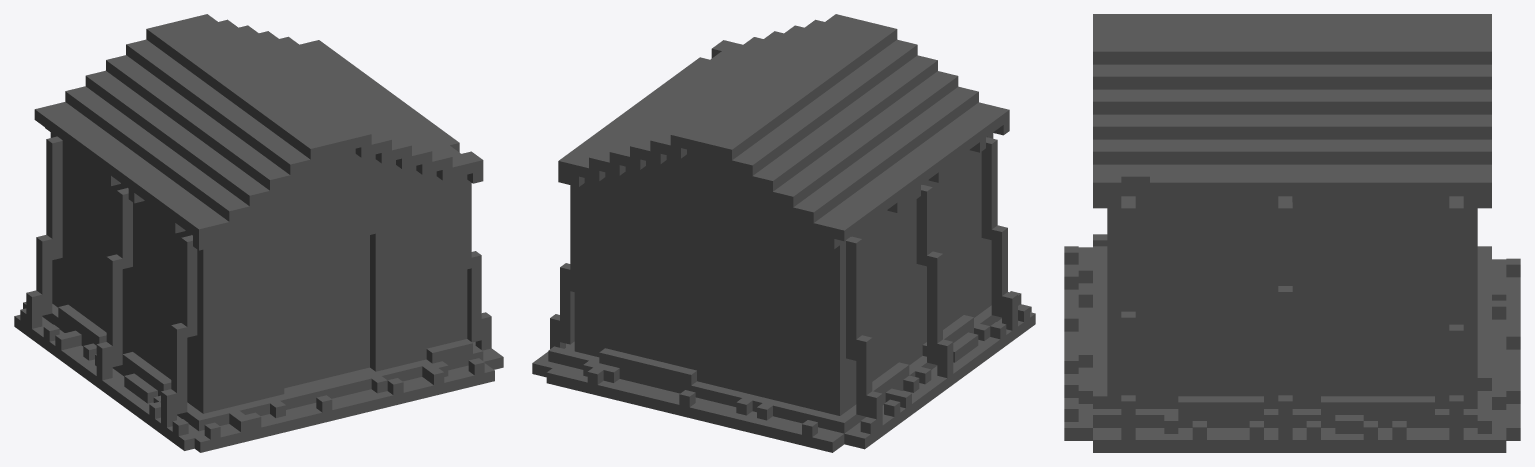
Rendered from bld_house7b.obj.
The picture shows the model from 3 angles, left to right: view 1: azimuth 30°, elevation 25°; view 2: azimuth 150°, elevation 25°; view 3: azimuth 270°, elevation 25°; orthographic projection. The views are drawn at different scales.
Bounding box in the file's own units: 32 × 25 × 32.
